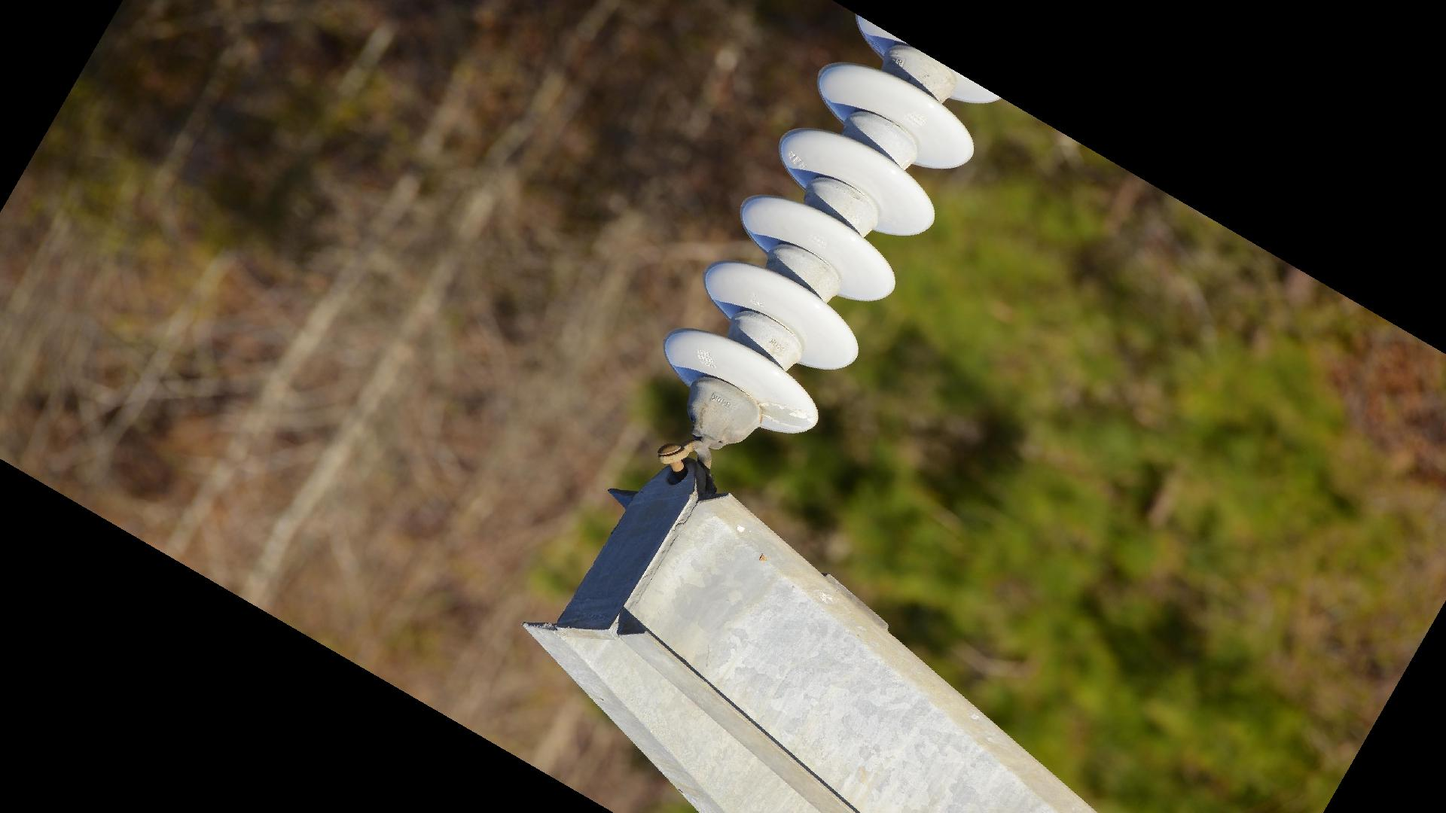insulator: (656, 11, 1005, 445)
insulator_flashover: (754, 401, 816, 432)
